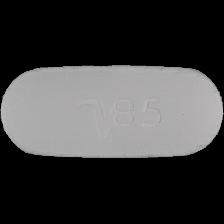63739-546: (0, 0, 224, 224)
